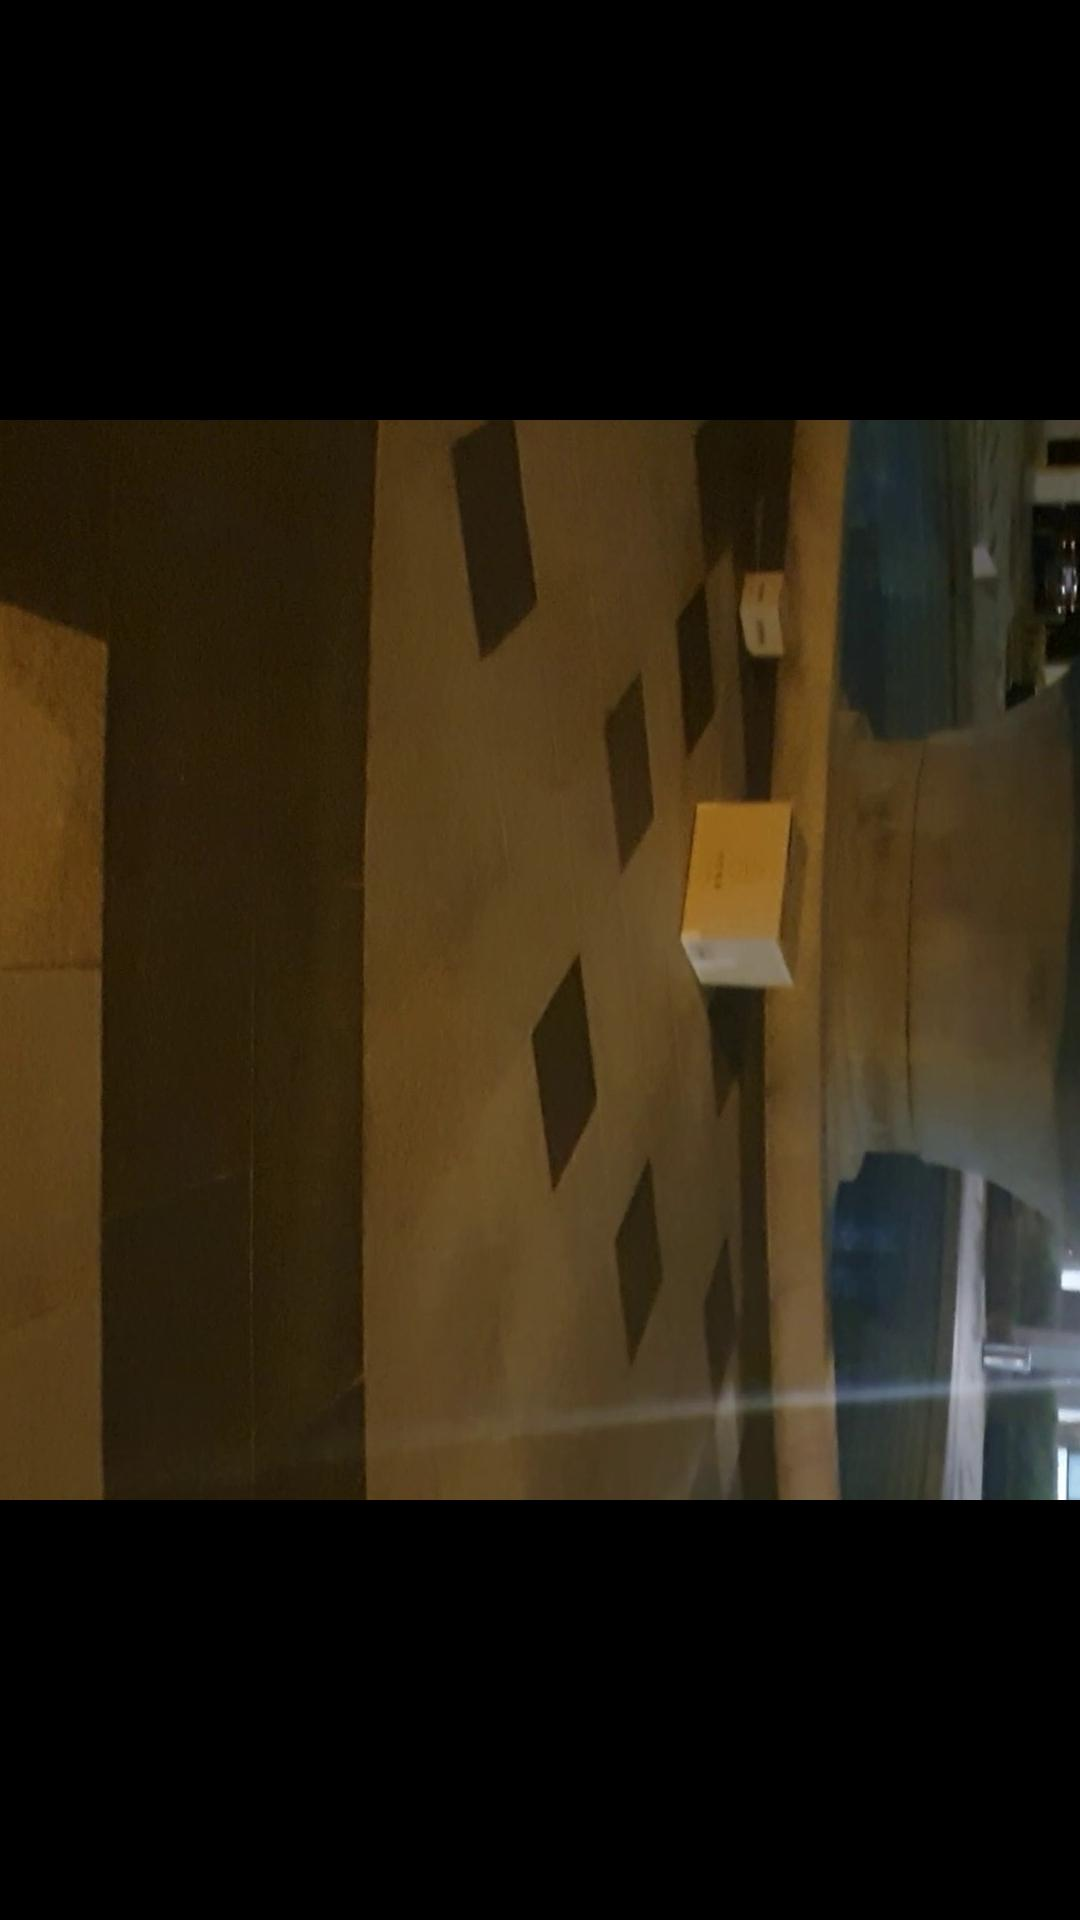Box: (665, 786, 820, 1010), (735, 553, 815, 676)
